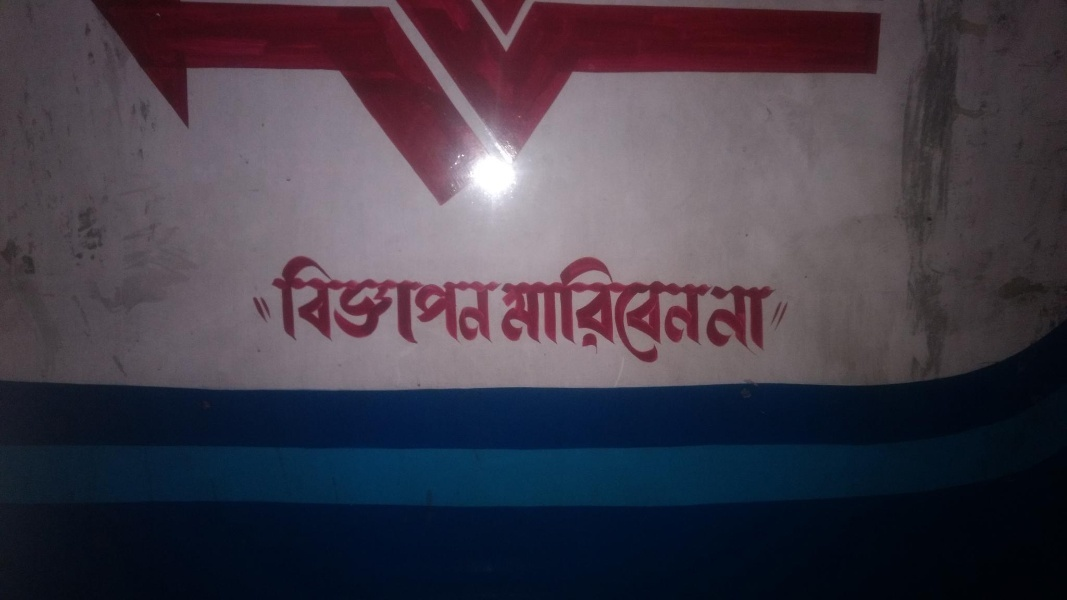text: (513, 253, 528, 364), (529, 253, 544, 364), (545, 253, 560, 364), (561, 253, 576, 364), (577, 253, 592, 364), (593, 253, 608, 364), (609, 253, 624, 364), (625, 253, 640, 364), (641, 253, 656, 364), (657, 253, 672, 364), (673, 253, 688, 364), (689, 253, 704, 364), (273, 253, 288, 346), (289, 253, 304, 346), (305, 253, 320, 346), (321, 253, 336, 346), (337, 253, 352, 346), (353, 253, 368, 346), (369, 253, 384, 346), (385, 253, 400, 346), (401, 253, 416, 346), (417, 253, 432, 346), (433, 253, 448, 346), (449, 253, 464, 346), (465, 253, 480, 346), (481, 253, 496, 346), (501, 253, 512, 364), (705, 284, 720, 357), (721, 284, 736, 357), (737, 284, 752, 357), (753, 284, 768, 357), (705, 253, 712, 364), (497, 253, 502, 346), (769, 284, 775, 357)
